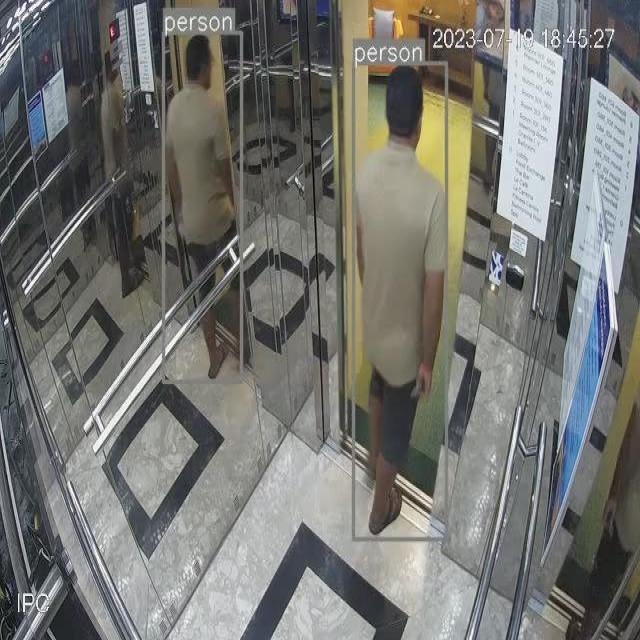person: (351, 59, 447, 541), (163, 39, 241, 381)
